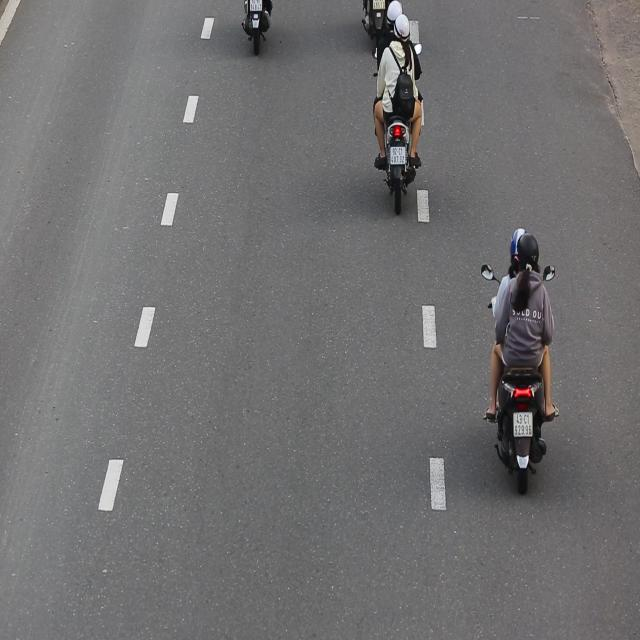motorbike: (478, 226, 560, 498), (369, 0, 428, 215)
